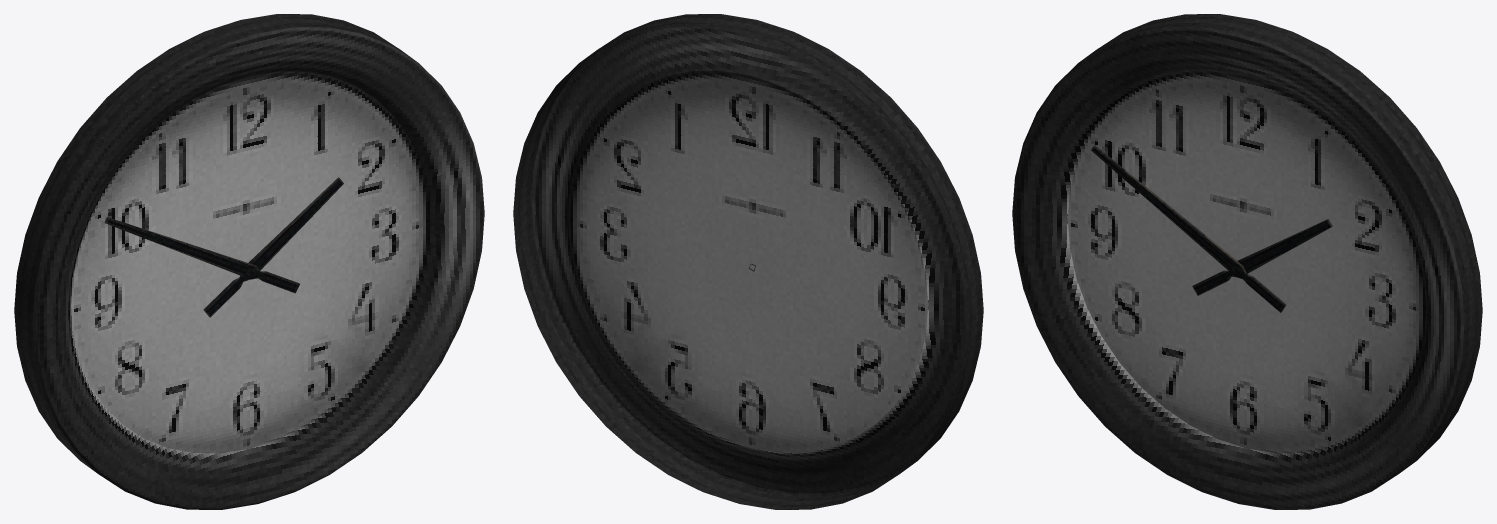
File: clock_2.glb
The picture shows the model from 3 angles, left to right: view 1: azimuth 30°, elevation 25°; view 2: azimuth 150°, elevation 25°; view 3: azimuth 330°, elevation 25°; orthographic projection.
Visible parts, largest first — view 1: clock_2, clock_2_arm_long, clock_2_arm_short; view 2: clock_2; view 3: clock_2, clock_2_arm_long, clock_2_arm_short.
Boxes of the visible parts, x1=… form: clock_2: x1=14, y1=14, x2=484, y2=509; clock_2_arm_long: x1=104, y1=217, x2=299, y2=293; clock_2_arm_short: x1=203, y1=177, x2=343, y2=317; clock_2: x1=513, y1=14, x2=983, y2=509; clock_2: x1=1012, y1=14, x2=1482, y2=509; clock_2_arm_long: x1=1091, y1=145, x2=1286, y2=312; clock_2_arm_short: x1=1192, y1=219, x2=1332, y2=295.
Bounding box in the file's own units: 0.2816 × 0.28 × 0.021.
2 materials, 2 textured.
